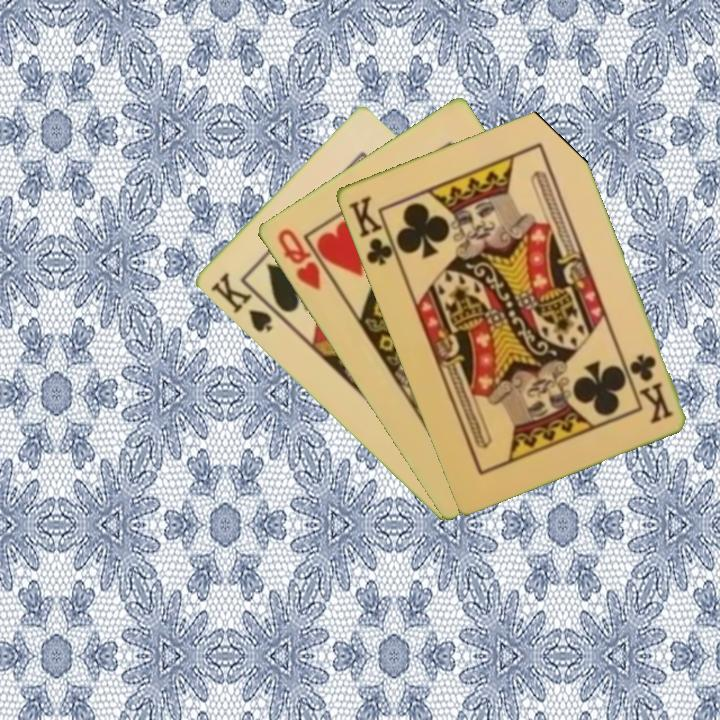Kc: (344, 192, 401, 269), (625, 350, 676, 427)
Ks: (206, 269, 283, 335)
Qh: (273, 224, 323, 293)
